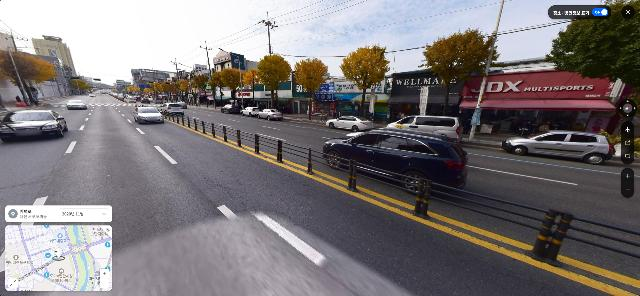ginkgo: (418, 27, 501, 116), (339, 44, 390, 124), (291, 57, 328, 119), (257, 54, 292, 111), (28, 59, 57, 105), (120, 82, 180, 102), (215, 68, 241, 106), (243, 69, 264, 107), (207, 73, 225, 107), (178, 79, 190, 105), (188, 81, 198, 104)
other: (543, 0, 640, 154), (3, 52, 38, 102), (192, 72, 209, 105), (73, 77, 88, 96)
